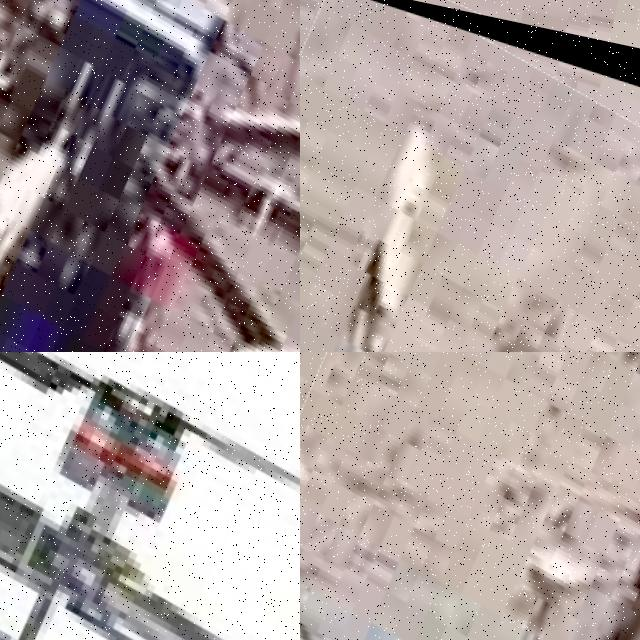0: (300, 0, 640, 352), (0, 0, 300, 352), (300, 352, 640, 640)
drone: (0, 352, 300, 640)
